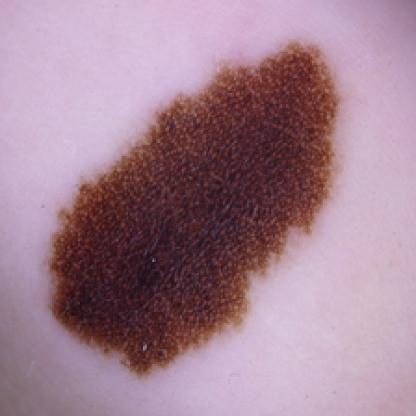benign: (44, 43, 344, 366)
